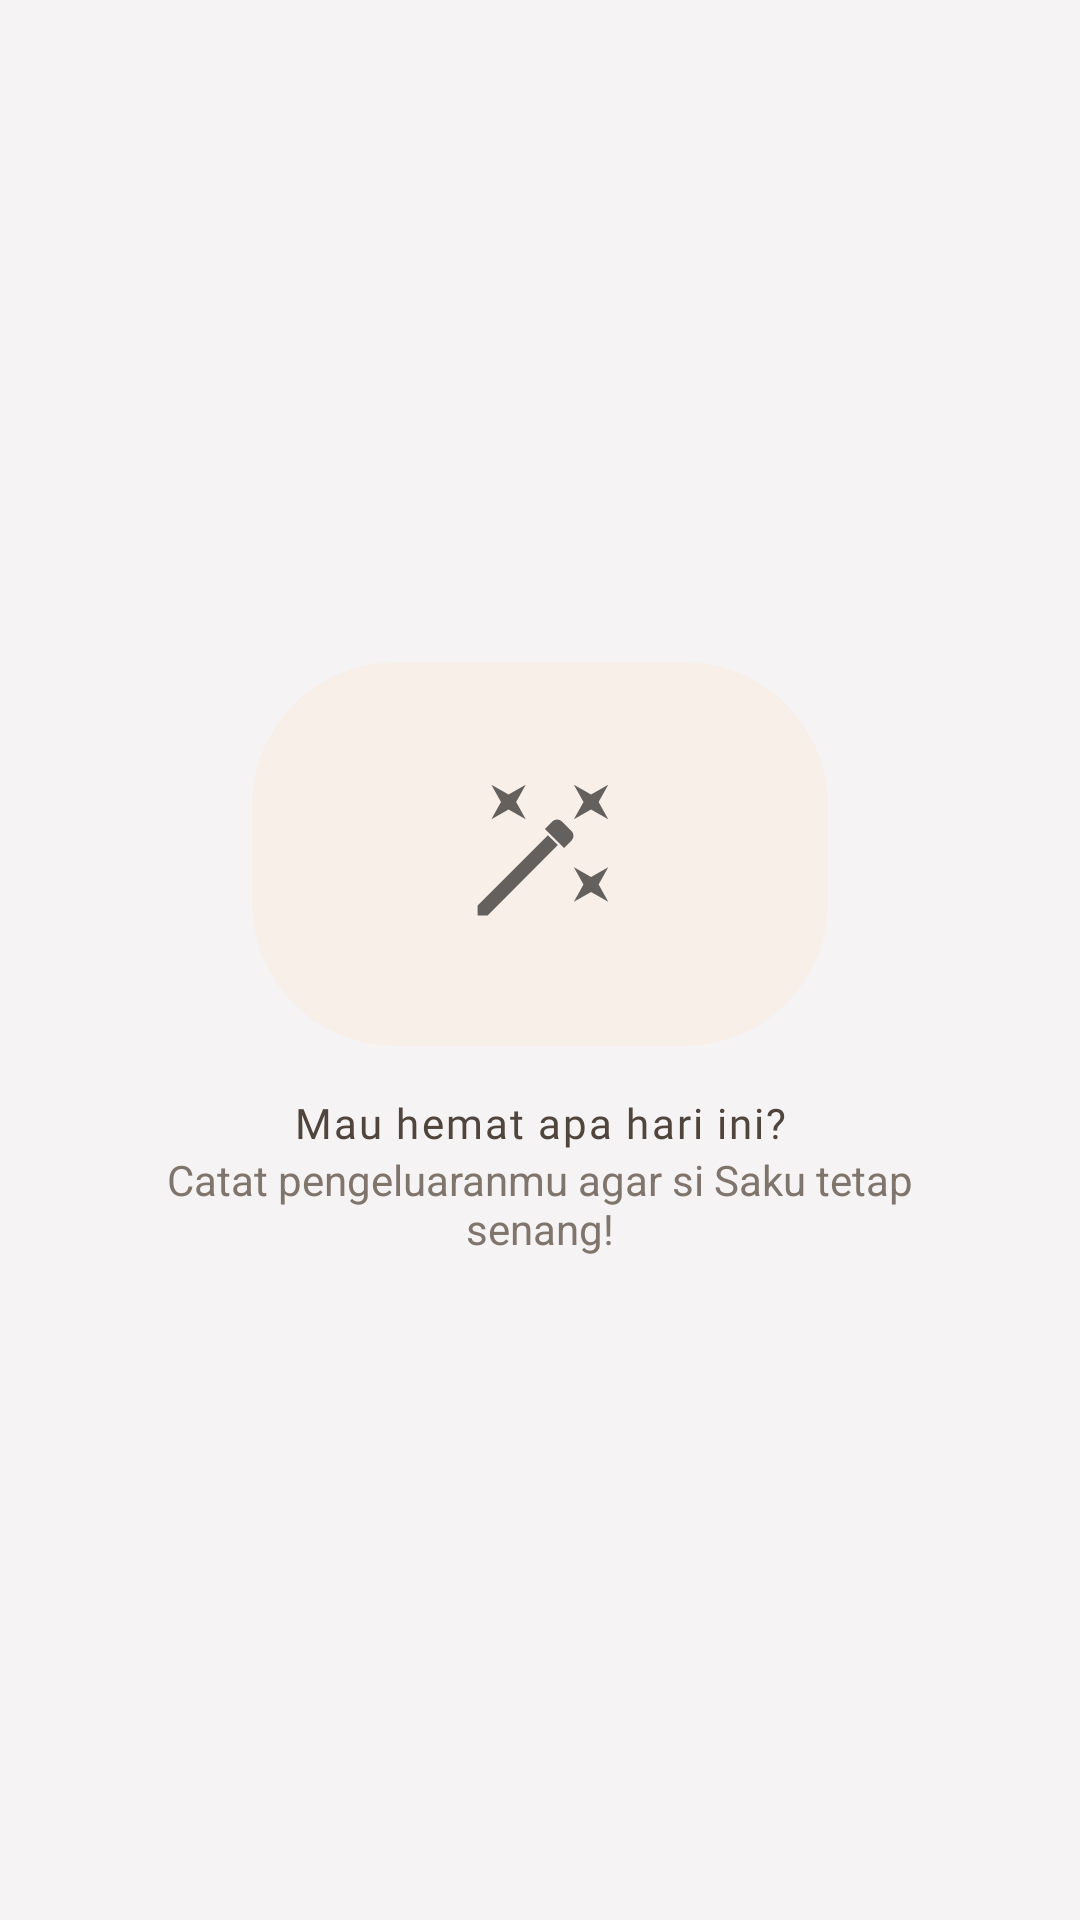

Where icons sit on this 1080*1920 app screen, as [x1,y1,x2,y2]:
sparkle: [477,785,608,916]
